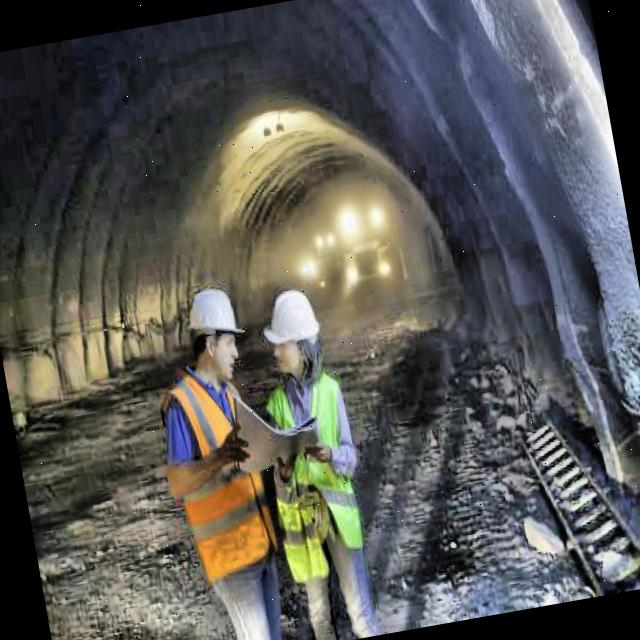helmet: (176, 278, 252, 387), (258, 280, 328, 387)
